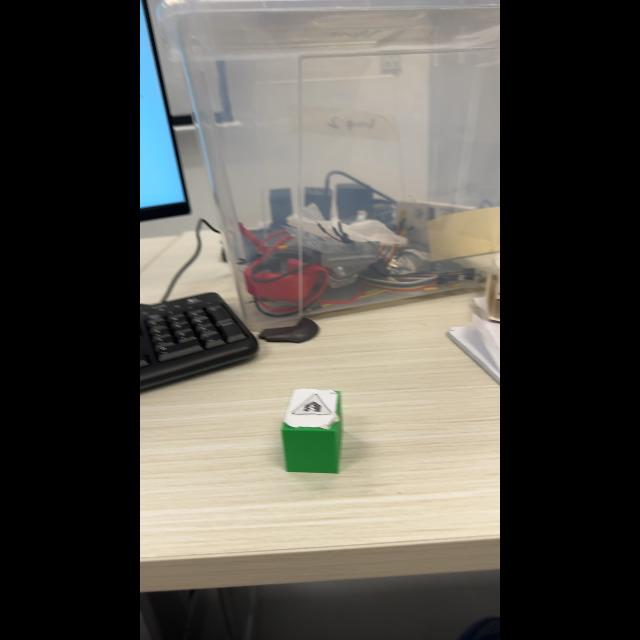Earthquake: (291, 393, 330, 415)
